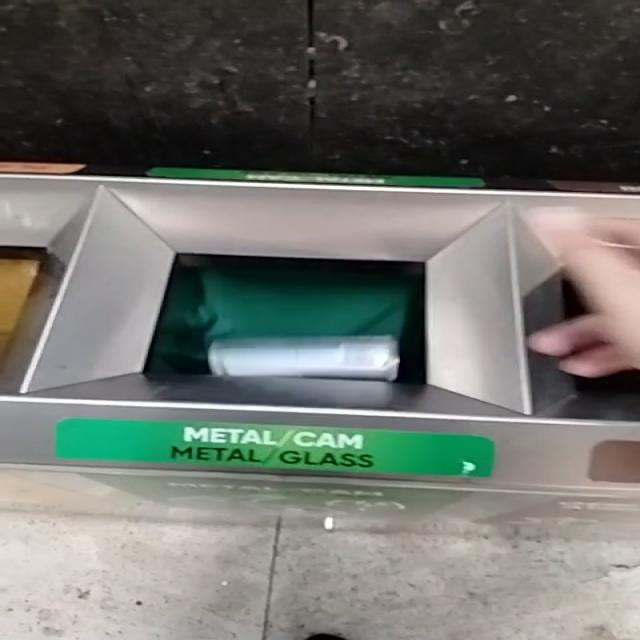bin: (1, 175, 639, 491)
metal: (209, 336, 400, 381)
